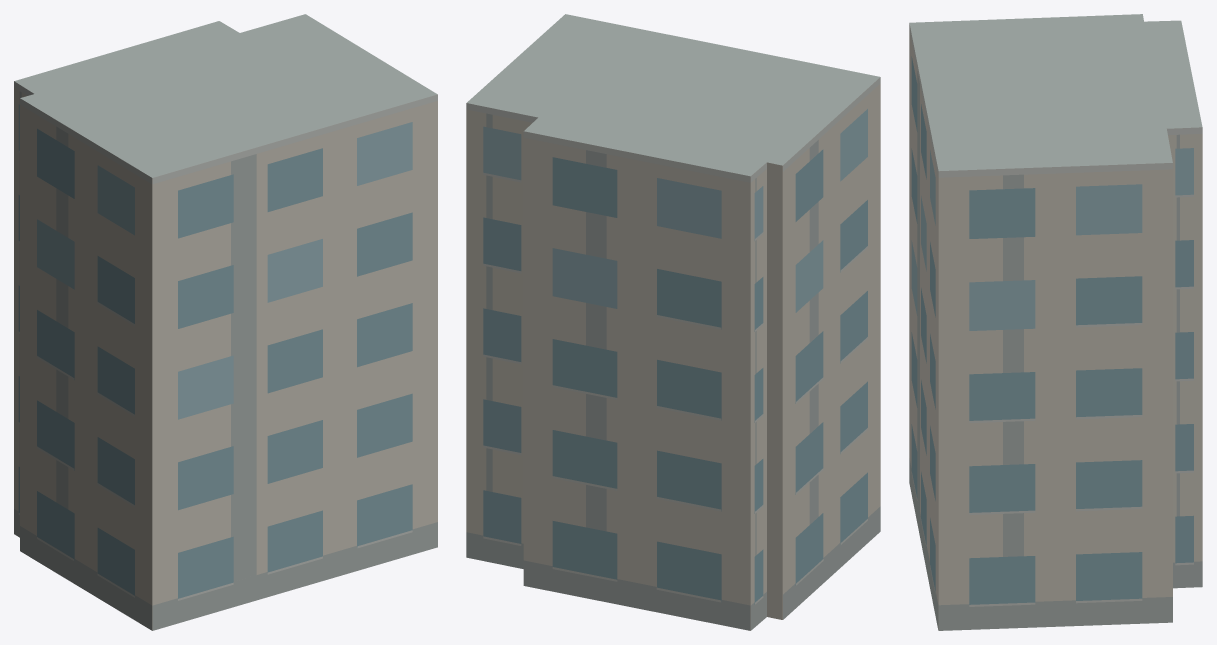
The model's file is survey-upis-32886016.glb.
3 views of the same model, side by side, from view 1: azimuth 30°, elevation 25°; view 2: azimuth 150°, elevation 25°; view 3: azimuth 270°, elevation 25° (orthographic).
Parts seen in each view (by area): view 1: survey-upis-32886016.tmp; view 2: survey-upis-32886016.tmp; view 3: survey-upis-32886016.tmp.
Boxes of the visible parts, x1,y1,x2,y2 form: survey-upis-32886016.tmp: (14, 14, 437, 630); survey-upis-32886016.tmp: (466, 14, 880, 630); survey-upis-32886016.tmp: (909, 14, 1202, 630).
Size of the model in its own units: 12.62 by 17.2 by 9.95.
